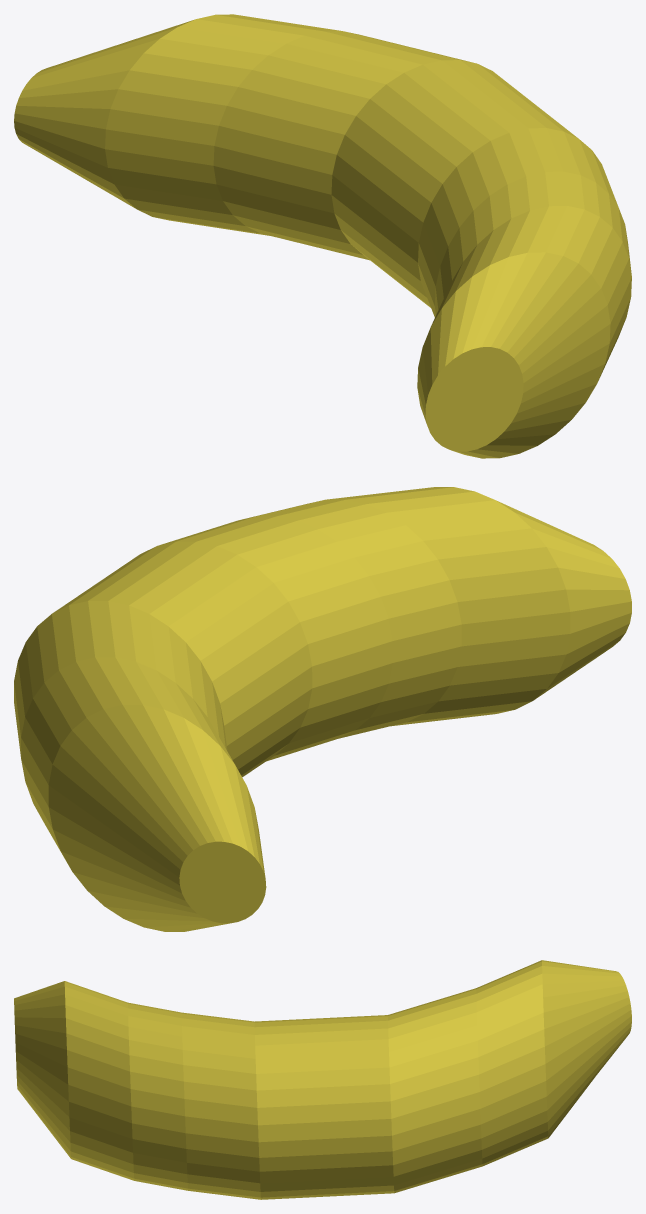
The model's file is banana.fbx.
3 views of the same model, one above another, from view 1: azimuth 30°, elevation 25°; view 2: azimuth 150°, elevation 25°; view 3: azimuth 270°, elevation 25° (orthographic). The views are drawn at different scales.
Visible parts, largest first — view 1: Cylinder; view 2: Cylinder; view 3: Cylinder.
Part boxes in pixels (x1,y1,x2,y2): Cylinder: (14,14,631,458); Cylinder: (14,487,631,931); Cylinder: (14,960,631,1199).
Bounding box in the file's own units: 385 × 219 × 692.
